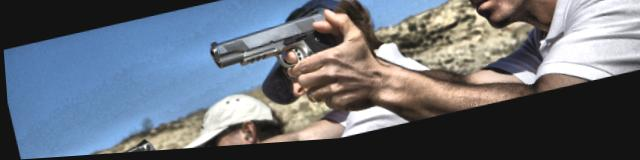pistol: (204, 14, 347, 102), (70, 136, 163, 157)
